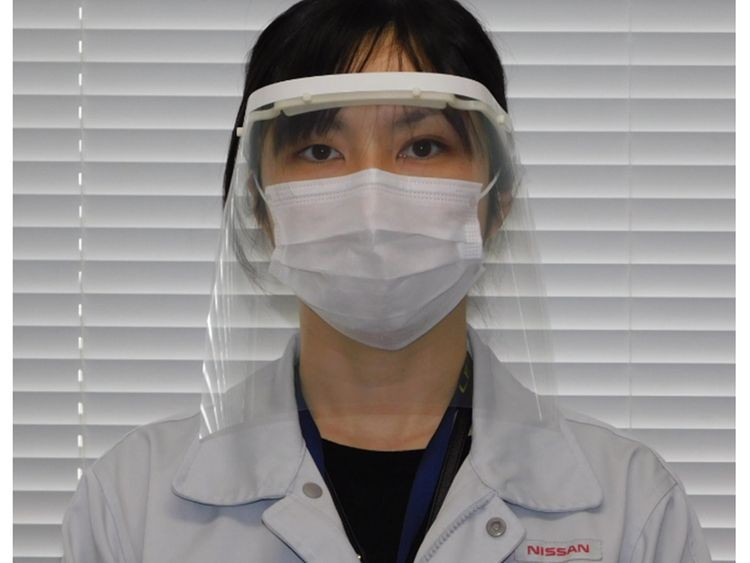Face_Shield: (197, 71, 568, 445)
with_mask: (264, 128, 494, 357)
